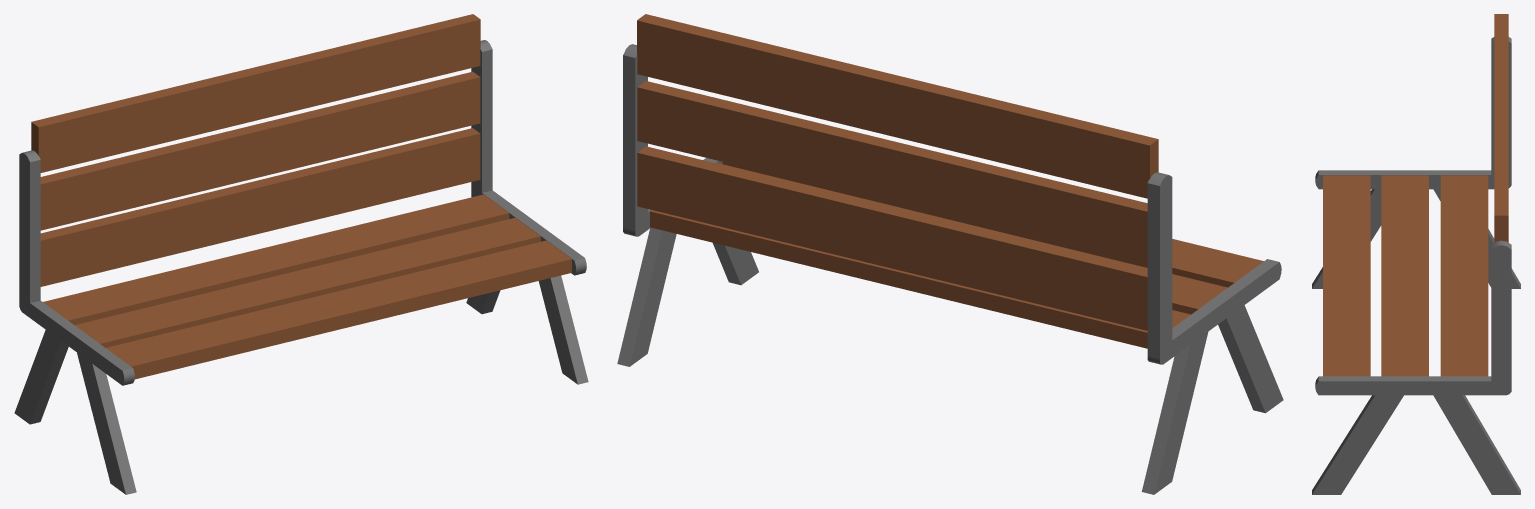
The model's file is StreetBench.fbx.
3 views of the same model, side by side, from view 1: azimuth 30°, elevation 25°; view 2: azimuth 150°, elevation 25°; view 3: azimuth 270°, elevation 25° (orthographic). The views are drawn at different scales.
Visible parts, largest first — view 1: StreetBench; view 2: StreetBench; view 3: StreetBench.
Boxes of the visible parts, box(x1,y1,x2,y2) form: StreetBench: box(14, 14, 588, 494); StreetBench: box(617, 14, 1283, 494); StreetBench: box(1312, 14, 1520, 494).
Size of the model in its own units: 10.46 by 6.35 by 4.38.
